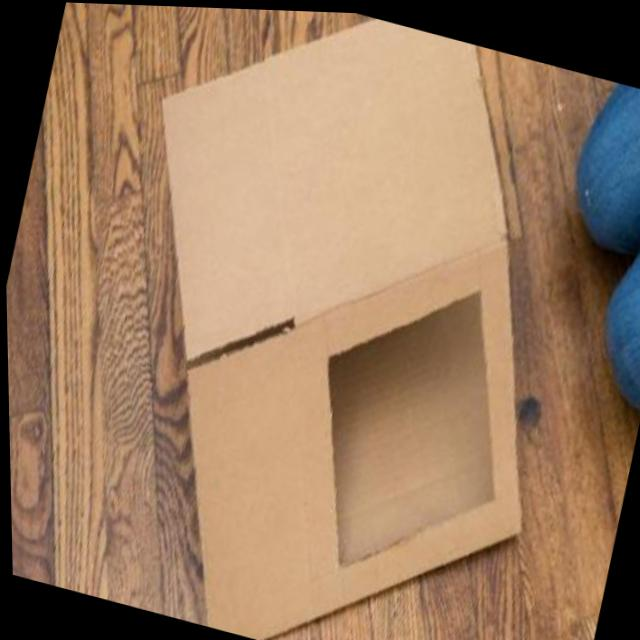box: (38, 1, 632, 640)
